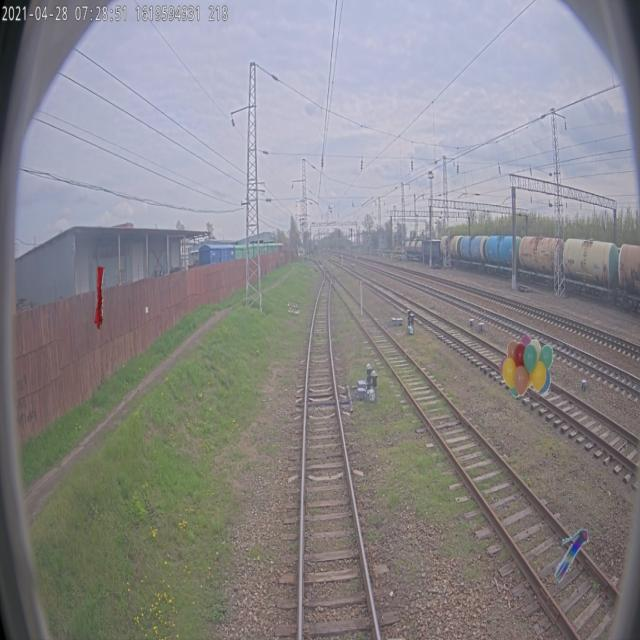balloon: (499, 333, 554, 398)
floating object: (554, 525, 589, 589), (94, 266, 105, 330)
